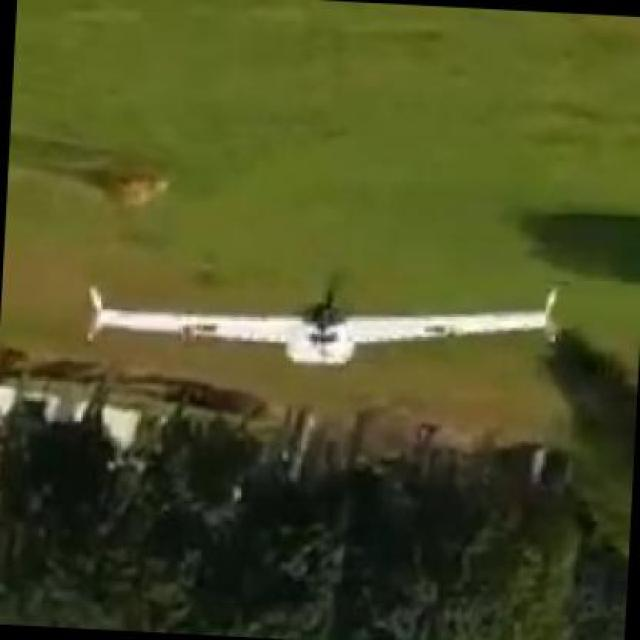iha: (84, 295, 568, 348)
